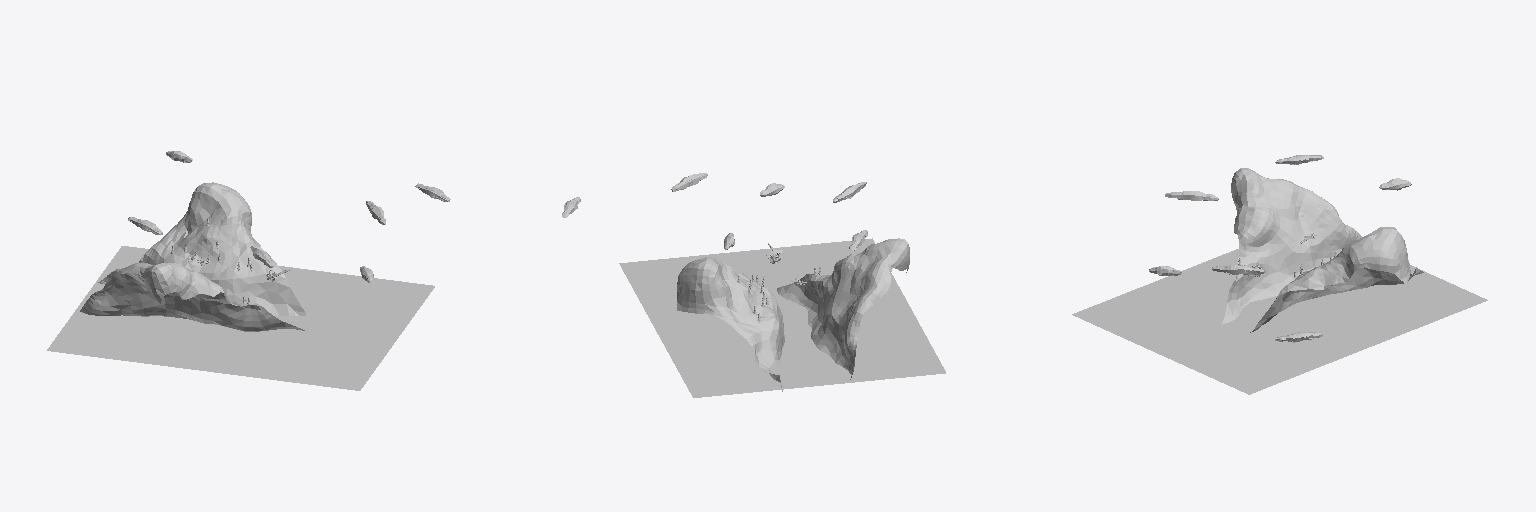
Rendered from Model for sketchfab.obj.
The picture shows the model from 3 angles: view 1: azimuth 30°, elevation 25°; view 2: azimuth 150°, elevation 25°; view 3: azimuth 270°, elevation 25°; orthographic projection.
Visible parts, largest first — view 1: pPlane3, polySurface11 polySurface10 polySurface8 polySurface7 mountain_m, polySurface10 polySurface8 polySurface7 mountain_mesh polySurfac; view 2: pPlane3, polySurface10 polySurface8 polySurface7 mountain_mesh polySurfac, polySurface11 polySurface10 polySurface8 polySurface7 mountain_m; view 3: pPlane3, polySurface10 polySurface8 polySurface7 mountain_mesh polySurfac, polySurface11 polySurface10 polySurface8 polySurface7 mountain_m.
Boxes of the visible parts, box(x1,y1,x2,y2) form: pPlane3: box(47, 246, 434, 390); polySurface11 polySurface10 polySurface8 polySurface7 mountain_m: box(98, 182, 310, 316); polySurface10 polySurface8 polySurface7 mountain_mesh polySurfac: box(80, 263, 304, 331); pPlane3: box(619, 238, 945, 397); polySurface10 polySurface8 polySurface7 mountain_mesh polySurfac: box(777, 238, 909, 379); polySurface11 polySurface10 polySurface8 polySurface7 mountain_m: box(677, 257, 784, 391); pPlane3: box(1072, 249, 1487, 394); polySurface10 polySurface8 polySurface7 mountain_mesh polySurfac: box(1222, 168, 1361, 324); polySurface11 polySurface10 polySurface8 polySurface7 mountain_m: box(1250, 227, 1423, 332).
Bounding box in the file's own units: 106 × 35.08 × 98.41.